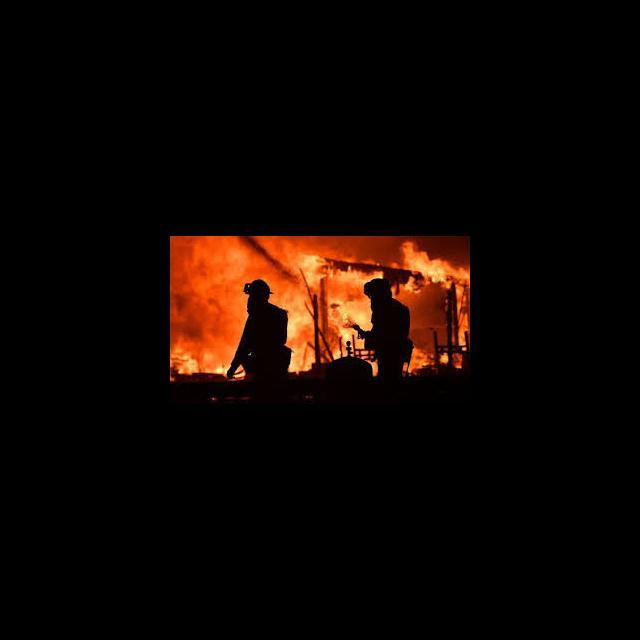Fire: (328, 244, 382, 362), (286, 252, 324, 374), (397, 237, 469, 293), (170, 342, 229, 383), (456, 292, 470, 352), (402, 350, 434, 374), (233, 364, 246, 380), (452, 352, 462, 370), (438, 353, 449, 365)
